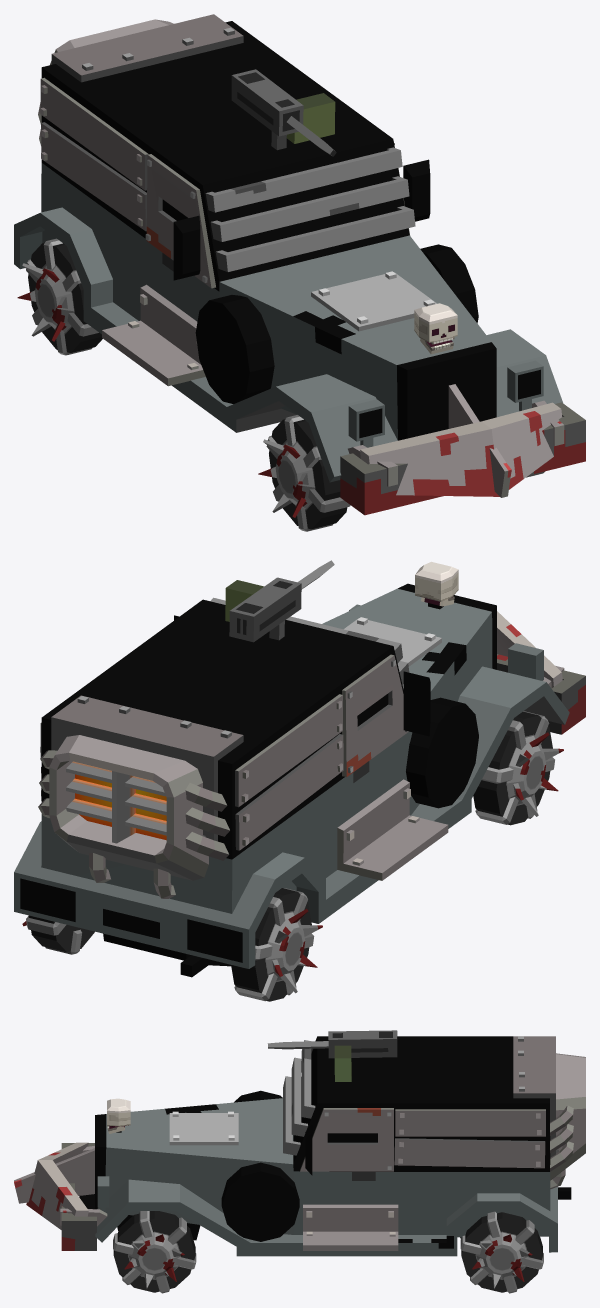
The model's file is 01_SA_Veh_OldCar.glb.
3 renders of one model, top to bottom at view 1: azimuth 30°, elevation 25°; view 2: azimuth 150°, elevation 25°; view 3: azimuth 270°, elevation 25°, orthographic. The views are drawn at different scales.
Visible parts, largest first — view 1: Body, armor_5, armor_2_part_B 5, armor_4_part_B_R 4, armor_3_part_A 3, armor_4_part_A_R 3, gun, armor_1, armor_2_part_C 2, armor_3_part_B_R 5, Wheel_A_1gr (×2), Wheel_A_3gr (×2) (+5 smaller); view 2: Body, Nitro, armor_4_part_B_R 4, armor_3_part_A 3, armor_4_part_A_R 3, armor_3_part_B_R 5, gun, Wheel_A_3gr (×3), Wheel_A_1gr (×2), SA_Veh_OldCar_Wheel_FR, SA_Veh_OldCar_Wheel_BR, armor_2_part_C 2 (+6 smaller); view 3: Body, armor_4_part_B_L 4, armor_3_part_B_L 5, armor_5, armor_4_part_A_L 3, Nitro, Wheel_A_1gr (×2), armor_3_part_A 3, gun, Wheel_A_3gr (×2), SA_Veh_OldCar_Wheel_FL, armor_2_part_B 5 (+5 smaller).
Part boxes in pixels (x1=…): Body: x1=14, y1=21, x2=562, y2=482; armor_5: x1=348, y1=384, x2=564, y2=497; armor_2_part_B 5: x1=205, y1=147, x2=415, y2=271; armor_4_part_B_R 4: x1=40, y1=77, x2=148, y2=231; armor_3_part_A 3: x1=51, y1=14, x2=243, y2=82; armor_4_part_A_R 3: x1=102, y1=284, x2=205, y2=386; gun: x1=231, y1=69, x2=336, y2=156; armor_1: x1=340, y1=402, x2=585, y2=515; armor_2_part_C 2: x1=311, y1=271, x2=436, y2=331; armor_3_part_B_R 5: x1=145, y1=154, x2=215, y2=288; Wheel_A_1gr (×2): x1=35, y1=265, x2=314, y2=508; Wheel_A_3gr (×2): x1=26, y1=238, x2=350, y2=531; Body: x1=14, y1=583, x2=569, y2=977; Nitro: x1=38, y1=735, x2=229, y2=898; armor_4_part_B_R 4: x1=235, y1=694, x2=343, y2=850; armor_3_part_A 3: x1=51, y1=695, x2=243, y2=841; armor_4_part_A_R 3: x1=337, y1=779, x2=448, y2=880; armor_3_part_B_R 5: x1=342, y1=654, x2=408, y2=777; gun: x1=225, y1=560, x2=334, y2=642; Wheel_A_3gr (×3): x1=26, y1=711, x2=554, y2=1001; Wheel_A_1gr (×2): x1=266, y1=735, x2=546, y2=980; SA_Veh_OldCar_Wheel_FR: x1=473, y1=711, x2=552, y2=825; SA_Veh_OldCar_Wheel_BR: x1=231, y1=888, x2=311, y2=1001; armor_2_part_C 2: x1=344, y1=617, x2=441, y2=666; Body: x1=79, y1=1036, x2=571, y2=1256; armor_4_part_B_L 4: x1=394, y1=1109, x2=545, y2=1168; armor_3_part_B_L 5: x1=300, y1=1108, x2=393, y2=1171; armor_5: x1=14, y1=1142, x2=107, y2=1229; armor_4_part_A_L 3: x1=303, y1=1204, x2=398, y2=1250; Nitro: x1=550, y1=1053, x2=585, y2=1189; Wheel_A_1gr (×2): x1=129, y1=1232, x2=527, y2=1278; armor_3_part_A 3: x1=513, y1=1036, x2=558, y2=1157; gun: x1=267, y1=1030, x2=397, y2=1081; Wheel_A_3gr (×2): x1=113, y1=1211, x2=543, y2=1293; SA_Veh_OldCar_Wheel_FL: x1=113, y1=1211, x2=195, y2=1292; armor_2_part_B 5: x1=283, y1=1040, x2=315, y2=1155.
Size of what is drawn, in the model's own units: 3.38 by 3.51 by 8.29.
Materials: 1 (1 with a texture image).
